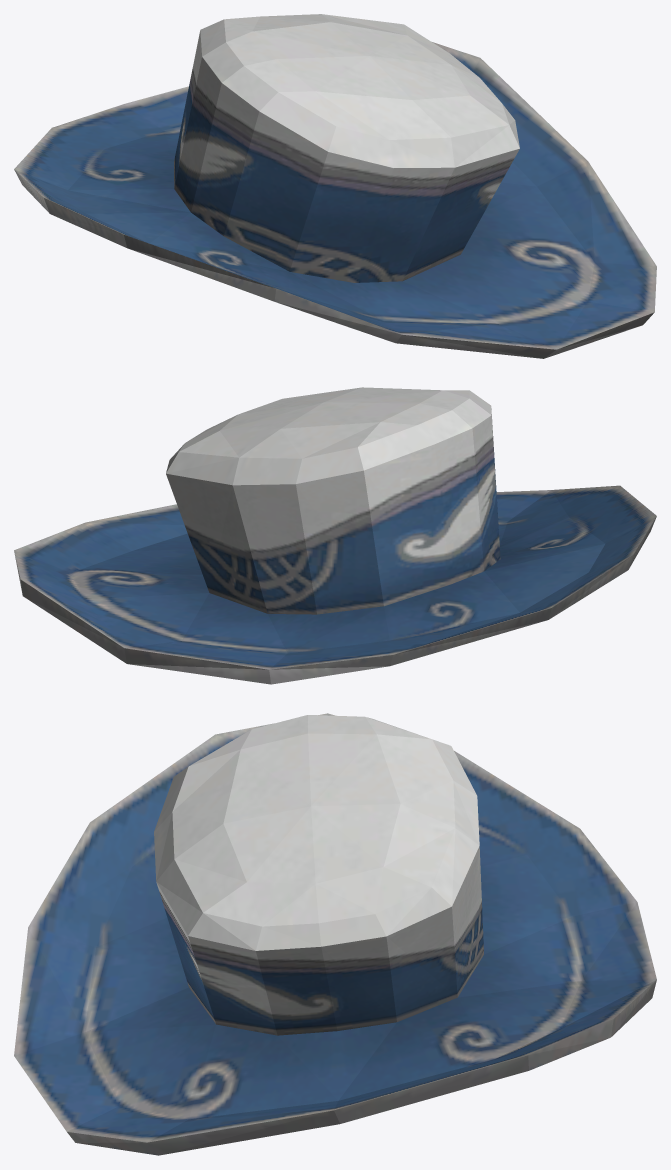
File: Rabbit_pvpHelmet.obj
3 renders of one model, top to bottom at view 1: azimuth 30°, elevation 25°; view 2: azimuth 150°, elevation 25°; view 3: azimuth 270°, elevation 25°, orthographic. The views are drawn at different scales.
Visible parts, largest first — view 1: Rabbit_pvpHelmet_tri; view 2: Rabbit_pvpHelmet_tri; view 3: Rabbit_pvpHelmet_tri.
Boxes of the visible parts, box(x1,y1,x2,y2) form: Rabbit_pvpHelmet_tri: box(14, 14, 656, 358); Rabbit_pvpHelmet_tri: box(14, 387, 656, 684); Rabbit_pvpHelmet_tri: box(14, 713, 656, 1155).
Size of the model in its own units: 0.5677 by 0.2522 by 0.5326.
1 material, 1 textured.
